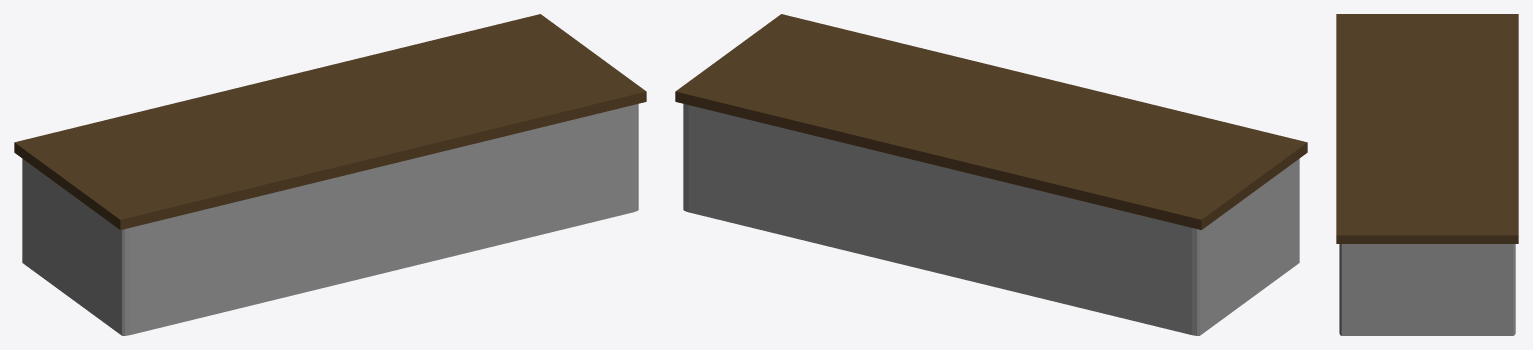
File: Counter.fbx
3 renders of one model, left to right at view 1: azimuth 30°, elevation 25°; view 2: azimuth 150°, elevation 25°; view 3: azimuth 270°, elevation 25°, orthographic. The views are drawn at different scales.
Parts seen in each view (by area): view 1: Cube; view 2: Cube; view 3: Cube.
Part boxes in pixels (x1,y1,x2,y2): Cube: (14, 14, 646, 335); Cube: (675, 14, 1307, 335); Cube: (1336, 14, 1518, 335).
Size of the model in its own units: 1009 by 219 by 352.
